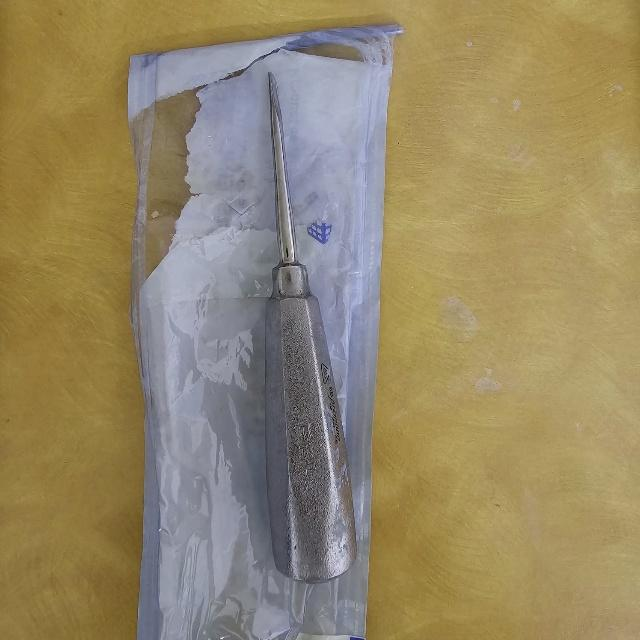botador: (264, 70, 355, 588)
